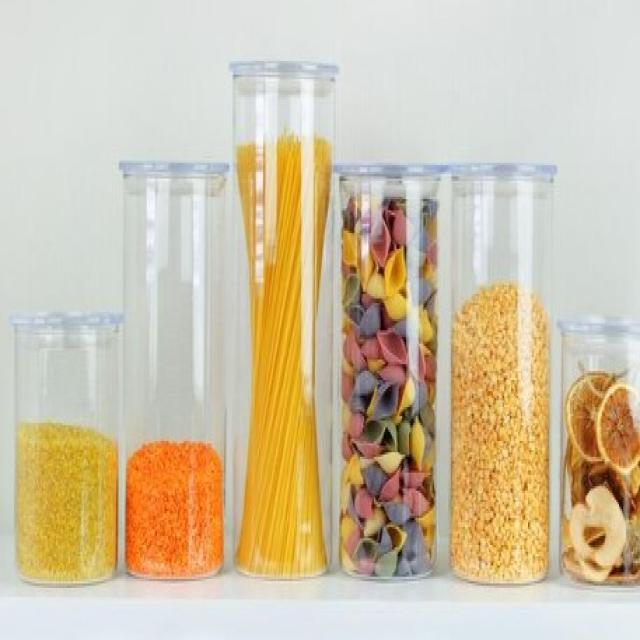electronic: (10, 54, 640, 591)
